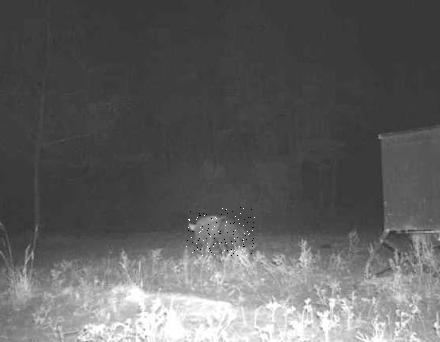Hog: (186, 207, 255, 256)
